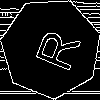R: (26, 23, 81, 74)
